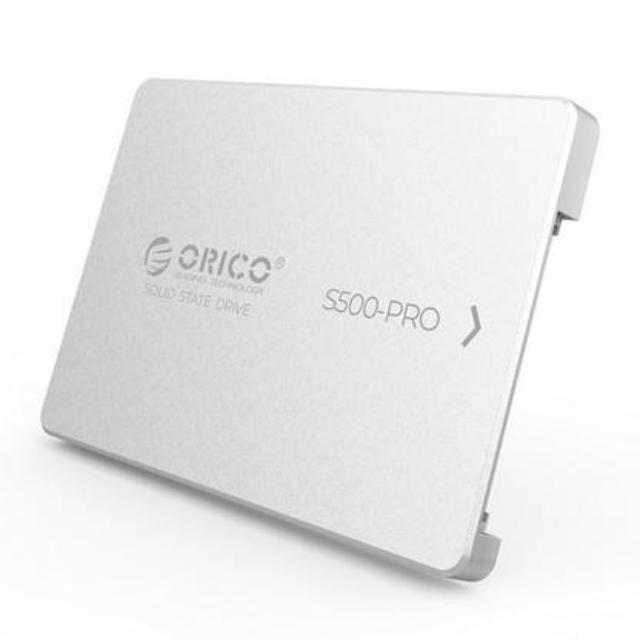DISK: (36, 65, 614, 592)
